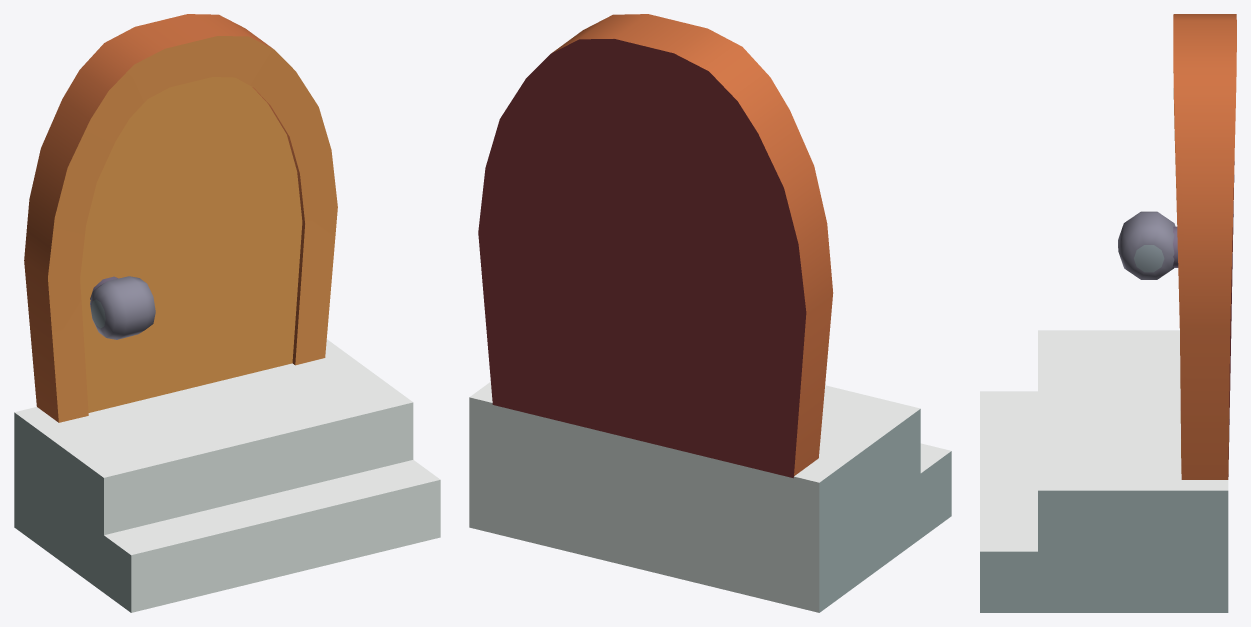
The model's file is Door03_Orange_White.glb.
3 renders of one model, left to right at view 1: azimuth 30°, elevation 25°; view 2: azimuth 150°, elevation 25°; view 3: azimuth 270°, elevation 25°, orthographic. The views are drawn at different scales.
Visible parts, largest first — view 1: Door03_Orange_White; view 2: Door03_Orange_White; view 3: Door03_Orange_White.
Boxes of the visible parts, x1,y1,x2,y2 form: Door03_Orange_White: [14, 14, 440, 612]; Door03_Orange_White: [469, 14, 951, 612]; Door03_Orange_White: [980, 14, 1236, 612].
Bounding box in the file's own units: 0.9795 × 1.41 × 0.6625.
1 material, 1 textured.
